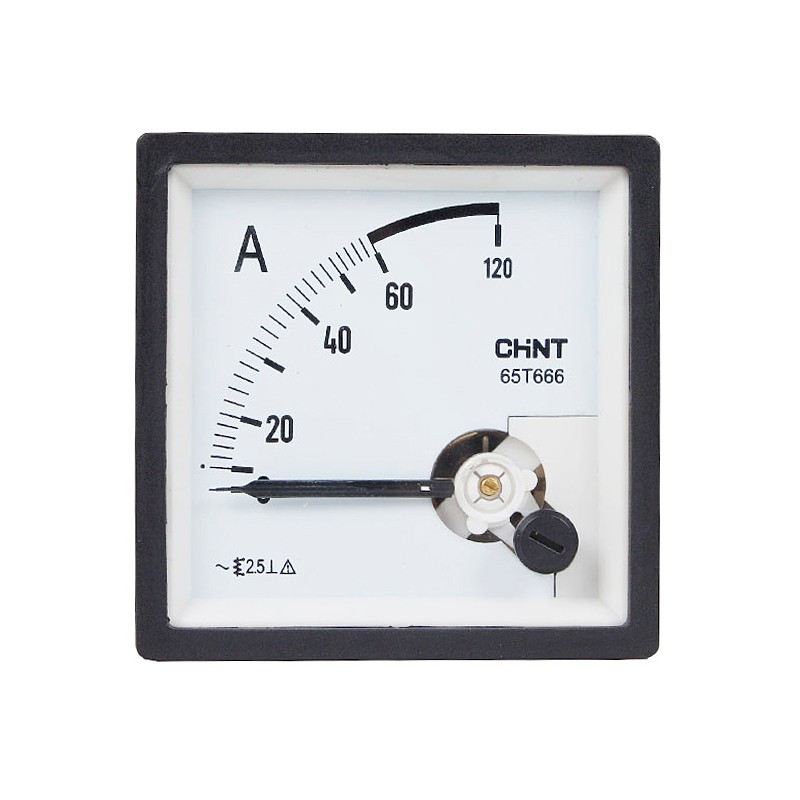pointer: (157, 158, 634, 631)
